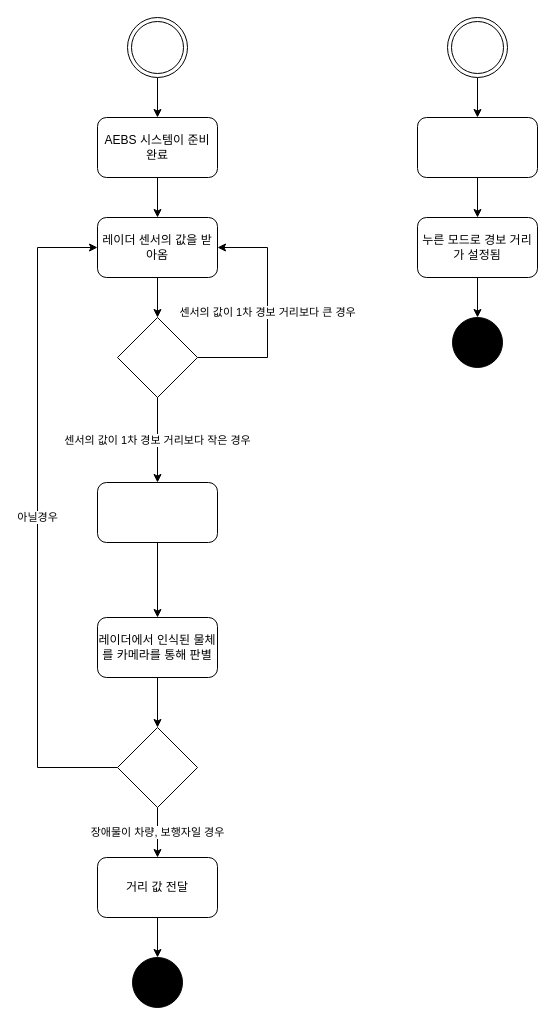
Some shapes in this 555 by 1025 pixel diagram are drawn without their labels. The centre of each missing label's shape, as x and y in pixels:
"모드 전환 버튼을 누름" belongs at (477,147).
"카메라 영상데이터를 받아옴" belongs at (157,512).
